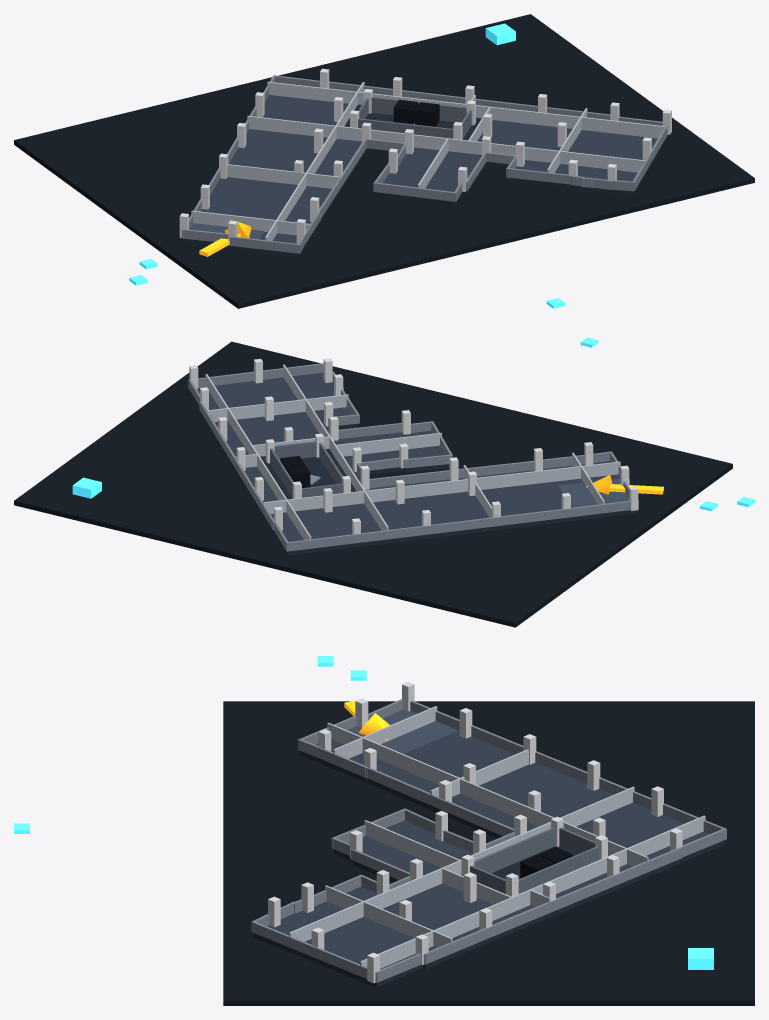
The picture shows the model from 3 angles, top to bottom: view 1: azimuth 30°, elevation 25°; view 2: azimuth 150°, elevation 25°; view 3: azimuth 270°, elevation 25°; orthographic projection. The views are drawn at different scales.
Visible parts, largest first — view 1: FireSight 140 New Montgomery St floor 3; view 2: FireSight 140 New Montgomery St floor 3; view 3: FireSight 140 New Montgomery St floor 3.
Boxes of the visible parts, bbox=[...] form: FireSight 140 New Montgomery St floor 3: bbox=[14, 14, 754, 308]; FireSight 140 New Montgomery St floor 3: bbox=[14, 337, 754, 627]; FireSight 140 New Montgomery St floor 3: bbox=[14, 656, 754, 1005].
Bounding box in the file's own units: 0.7889 × 0.043 × 0.7372.
